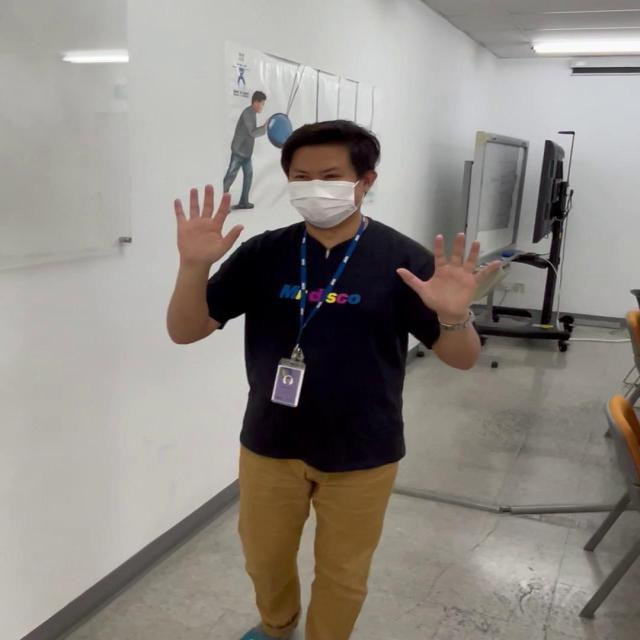bare_hand: (392, 231, 507, 310), (169, 181, 245, 261)
